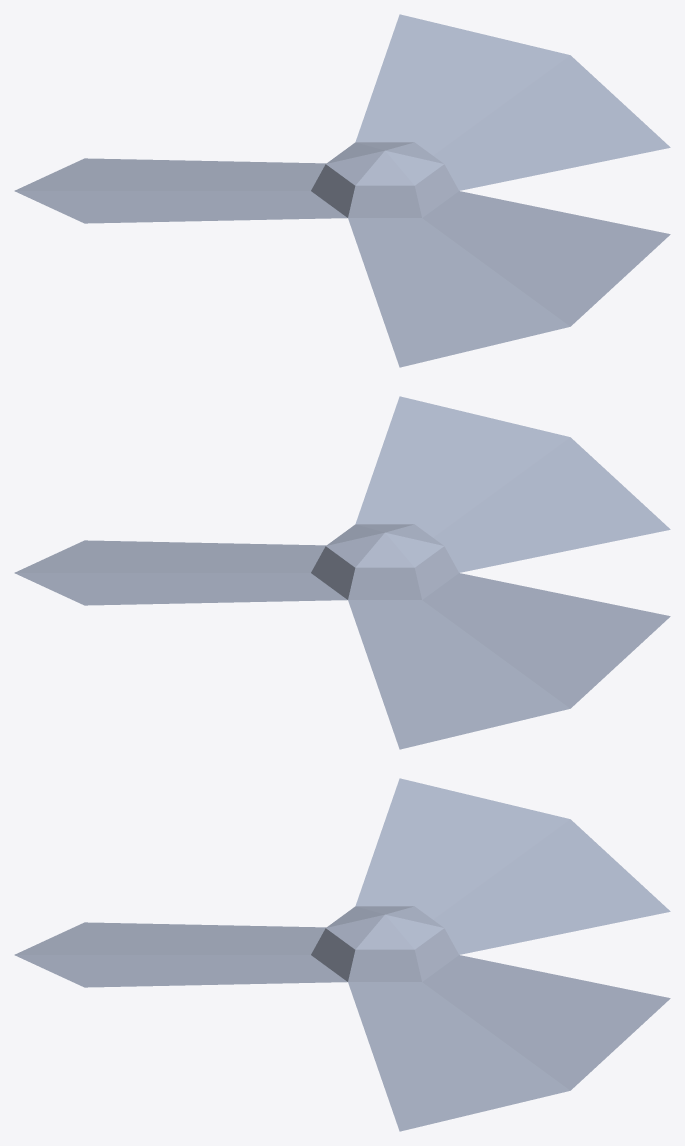
File: fan.fbx
3 views of the same model, one above another, from view 1: azimuth 30°, elevation 25°; view 2: azimuth 150°, elevation 25°; view 3: azimuth 270°, elevation 25° (orthographic).
Parts seen in each view (by area): view 1: Circle; view 2: Circle; view 3: Circle.
Boxes of the visible parts, x1,y1,x2,y2 form: Circle: [14, 14, 670, 367]; Circle: [14, 396, 670, 749]; Circle: [14, 778, 670, 1131].
Size of the model in its own units: 9.13 by 1.1 by 8.85.
